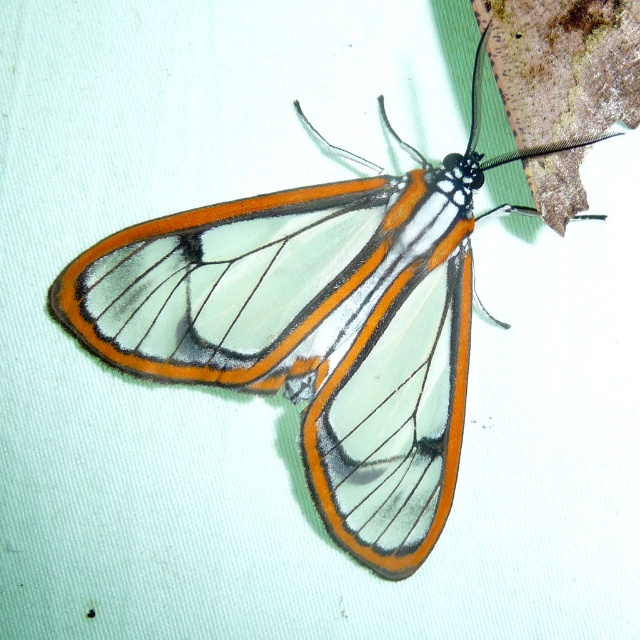Butterfly: (75, 65, 598, 541)
